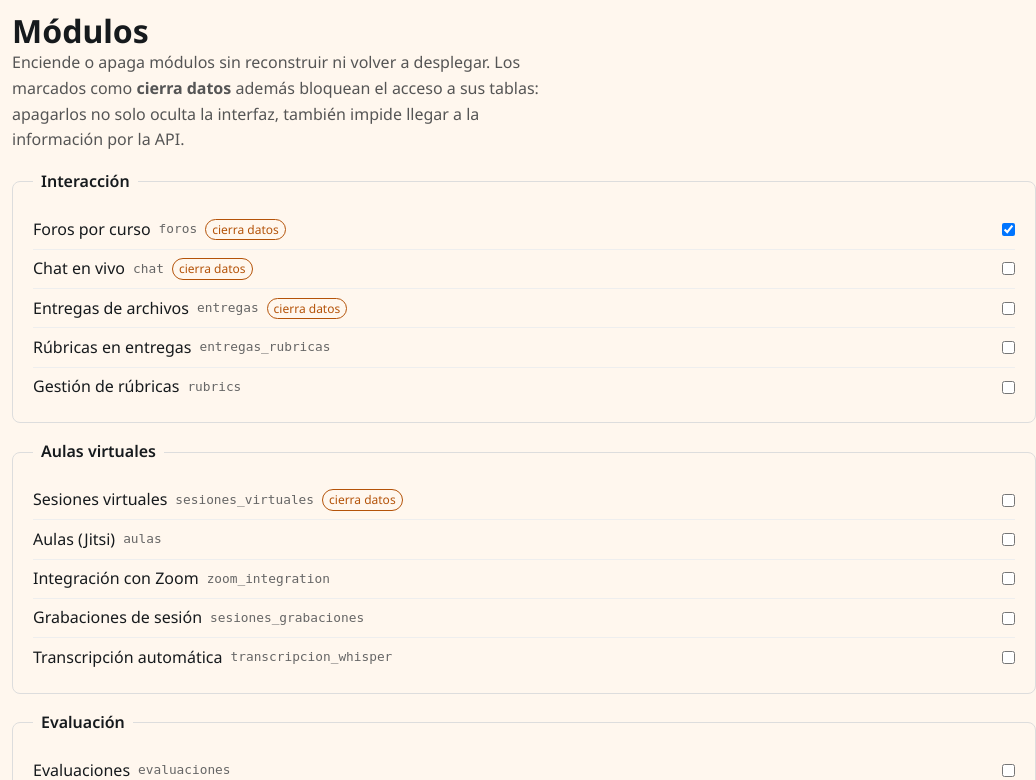
Scenario: AdminModulos › avisa si no se pudo guardar y no miente sobre el estado
Step 1. Click the checkbox with id "flag-chat" → click(1008, 269), box [1002,262,1015,275]
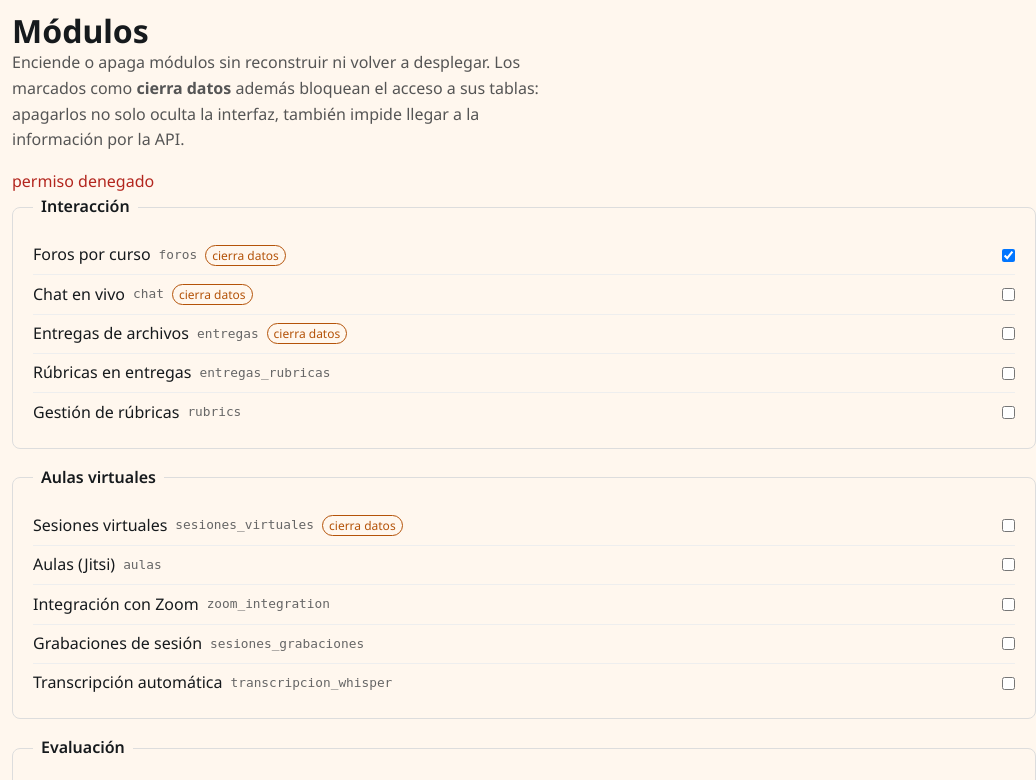
Expected: the checkbox with id "flag-chat" is not checked, [1002,288,1015,301]
Expected: the text "permiso denegado" is shown, [12,170,154,192]
